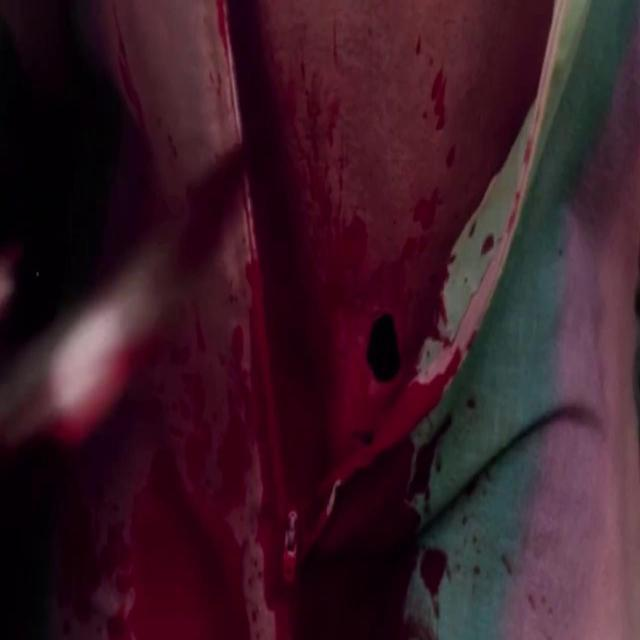flood: (132, 169, 432, 640)
